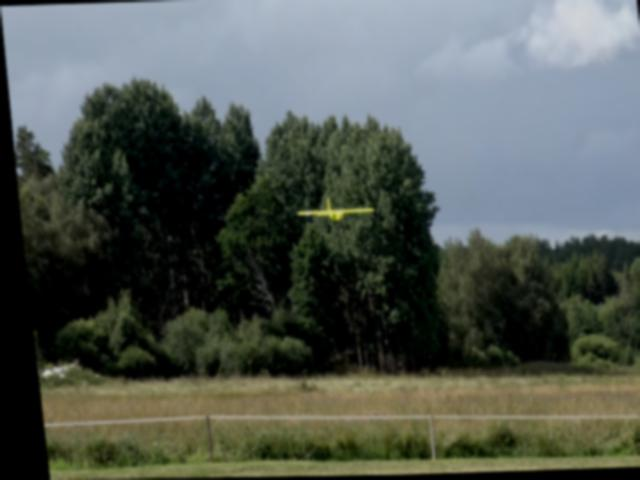plane: (291, 198, 372, 234)
